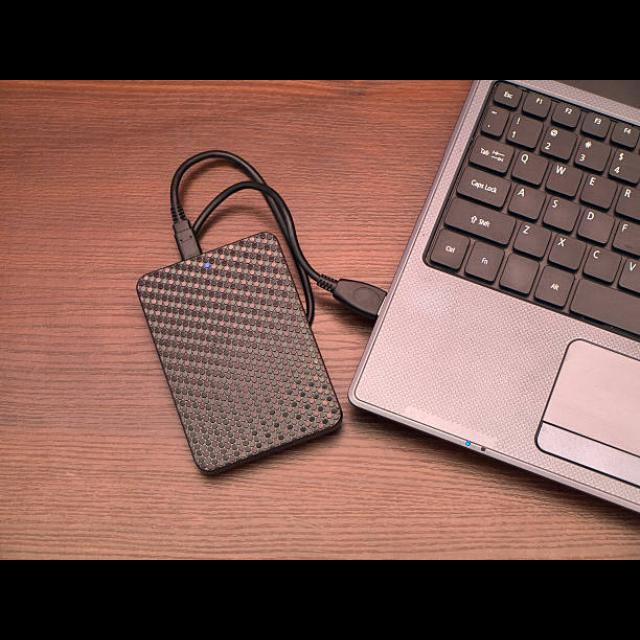HDD: (135, 232, 343, 477)
